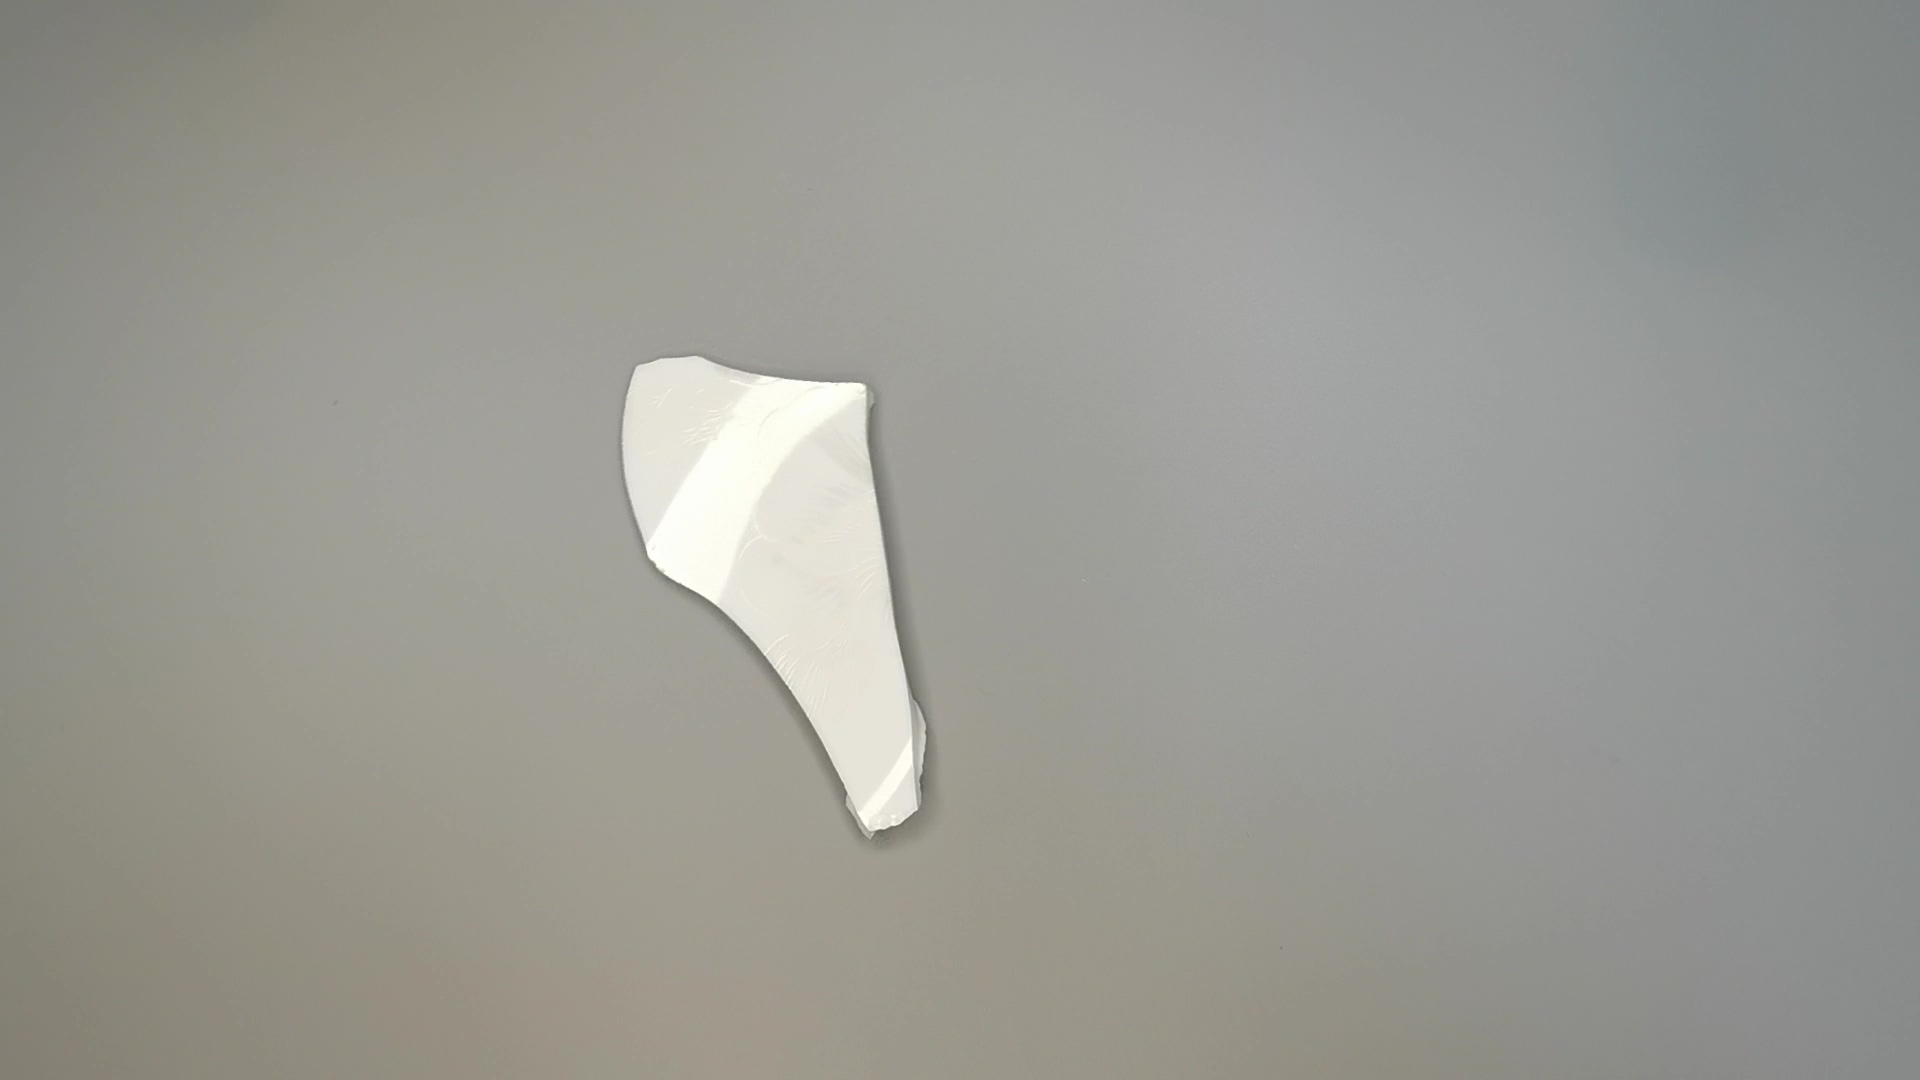ceramic: (621, 353, 932, 845)
